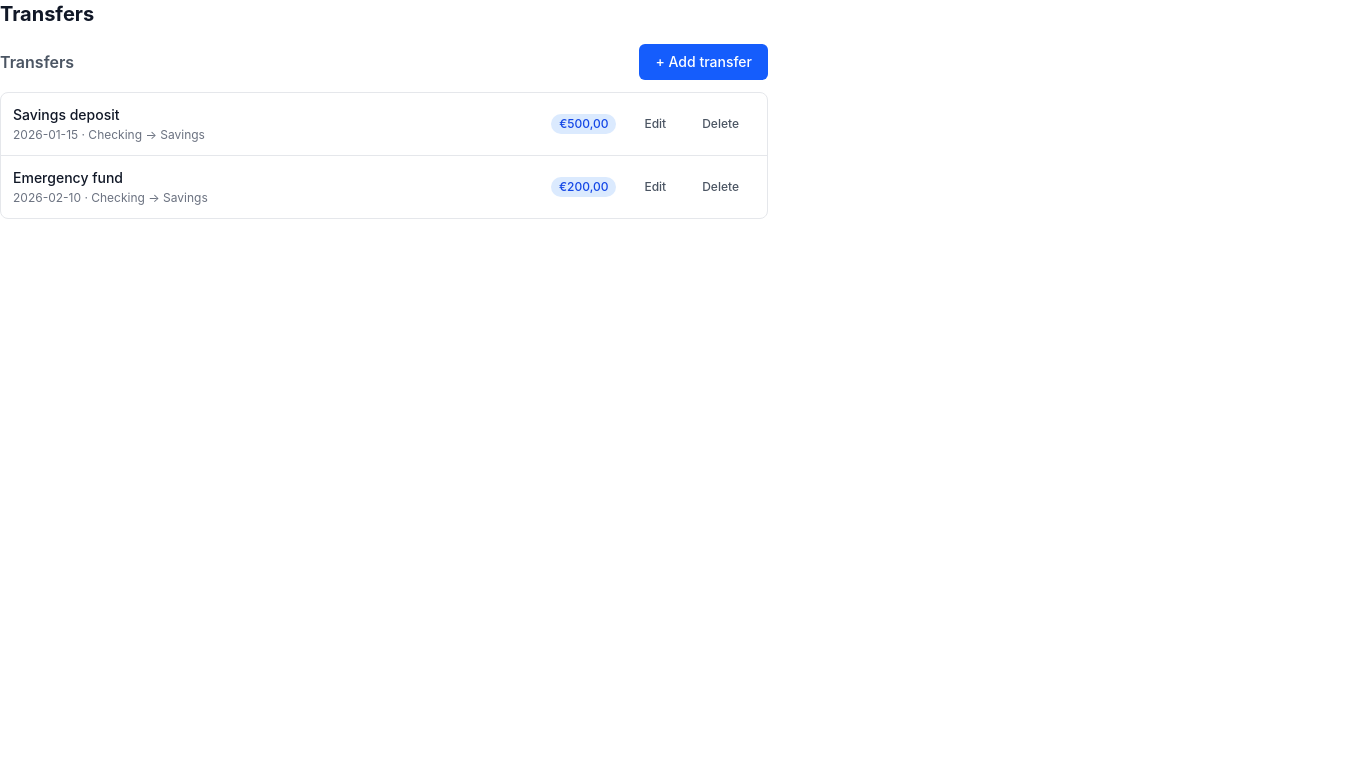
Test: TransfersPage delete button opens modal
Expected: the text "Savings deposit" is shown, [13, 105, 120, 125]
Click the button "Delete" in the row of "Savings deposit" at {"x": 721, "y": 124}, box [686, 108, 755, 140]
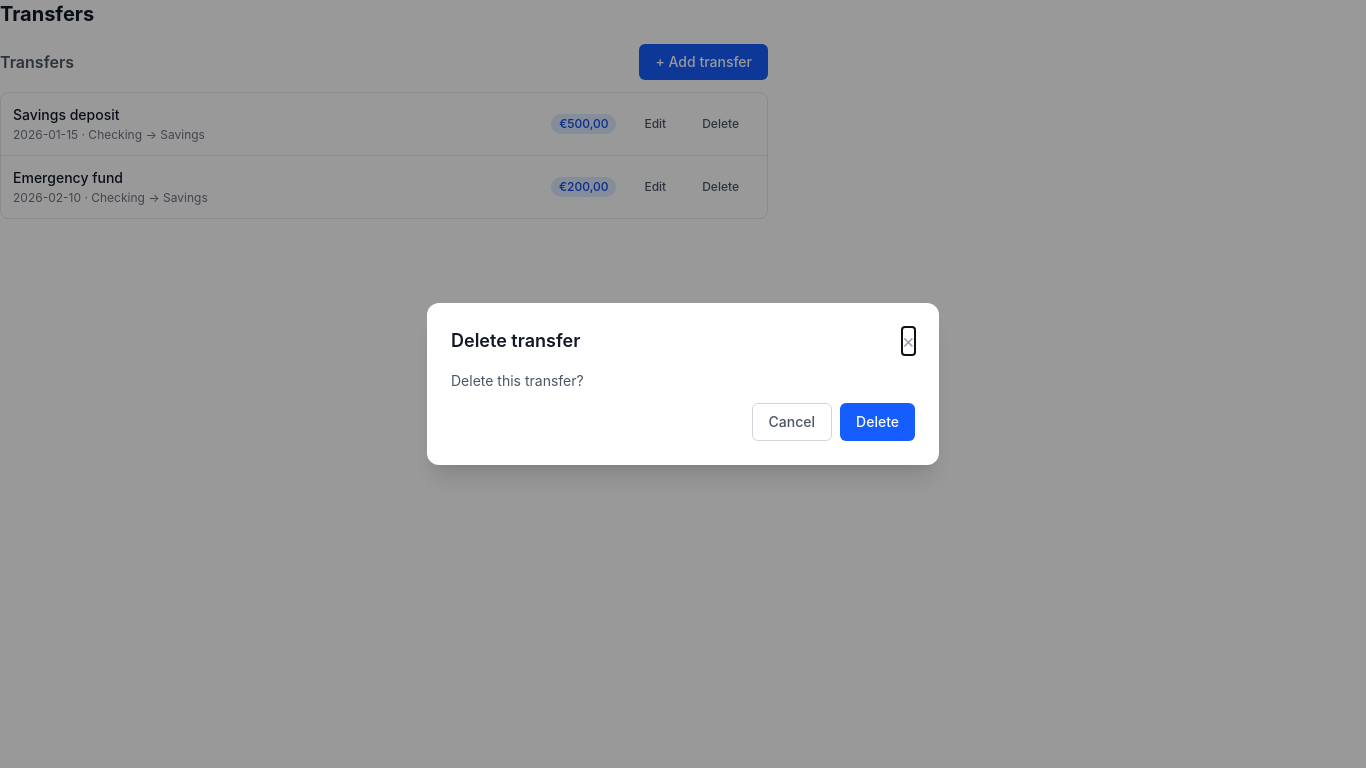
Expected: the dialog is shown, [427, 303, 939, 465]
Expected: the text "Delete this transfer?" is shown, [451, 372, 584, 389]
